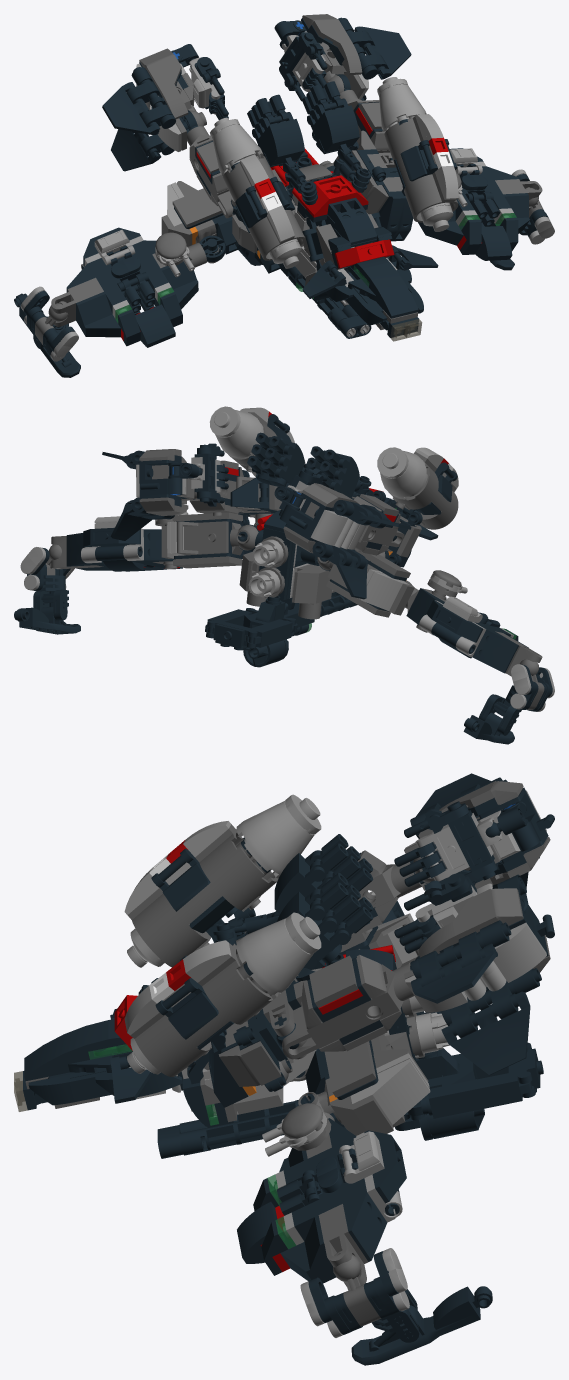
Rendered from rt-7138-firebat-rover.dae.
3 renders of one model, top to bottom at view 1: azimuth 30°, elevation 25°; view 2: azimuth 150°, elevation 25°; view 3: azimuth 270°, elevation 25°, orthographic. The views are drawn at different scales.
Bounding box in the file's own units: 747 × 475 × 356.
